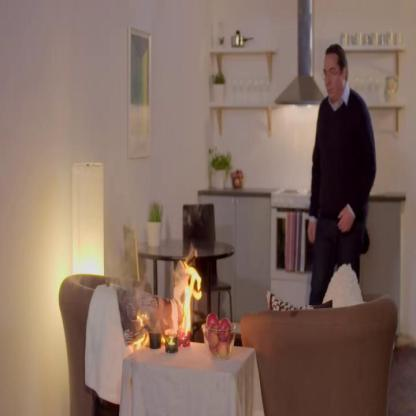fire: (180, 259, 203, 334)
